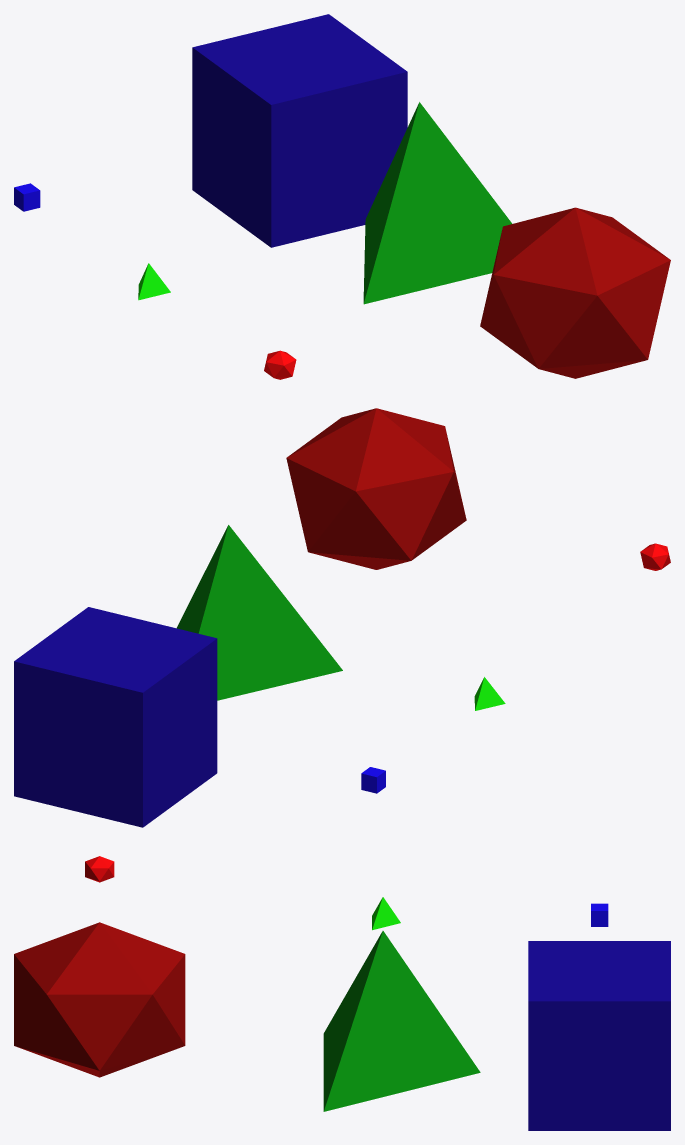
File: hedrons.fbx
The picture shows the model from 3 angles, top to bottom: view 1: azimuth 30°, elevation 25°; view 2: azimuth 150°, elevation 25°; view 3: azimuth 270°, elevation 25°; orthographic projection. The views are drawn at different scales.
Visible parts, largest first — view 1: Hexa, Iso, Tetra, IsoBullet, TetraBullet, HexaBullet; view 2: Hexa, Iso, Tetra, IsoBullet; view 3: Hexa, Iso, Tetra, IsoBullet, TetraBullet, HexaBullet.
Part boxes in pixels (left/top/right/bottom): Hexa: left=192, top=14, right=407, bottom=247; Iso: left=480, top=207, right=670, bottom=378; Tetra: left=363, top=102, right=512, bottom=304; IsoBullet: left=264, top=350, right=296, bottom=379; TetraBullet: left=138, top=263, right=170, bottom=300; HexaBullet: left=14, top=183, right=40, bottom=211; Hexa: left=14, top=607, right=217, bottom=827; Iso: left=286, top=408, right=466, bottom=569; Tetra: left=177, top=525, right=342, bottom=700; IsoBullet: left=640, top=543, right=670, bottom=570; Hexa: left=528, top=941, right=670, bottom=1130; Iso: left=14, top=922, right=185, bottom=1077; Tetra: left=323, top=931, right=480, bottom=1111; IsoBullet: left=85, top=856, right=114, bottom=882; TetraBullet: left=372, top=897, right=400, bottom=930; HexaBullet: left=591, top=903, right=608, bottom=926.
Bounding box in the file's own units: 2.92 × 1.38 × 4.6.
